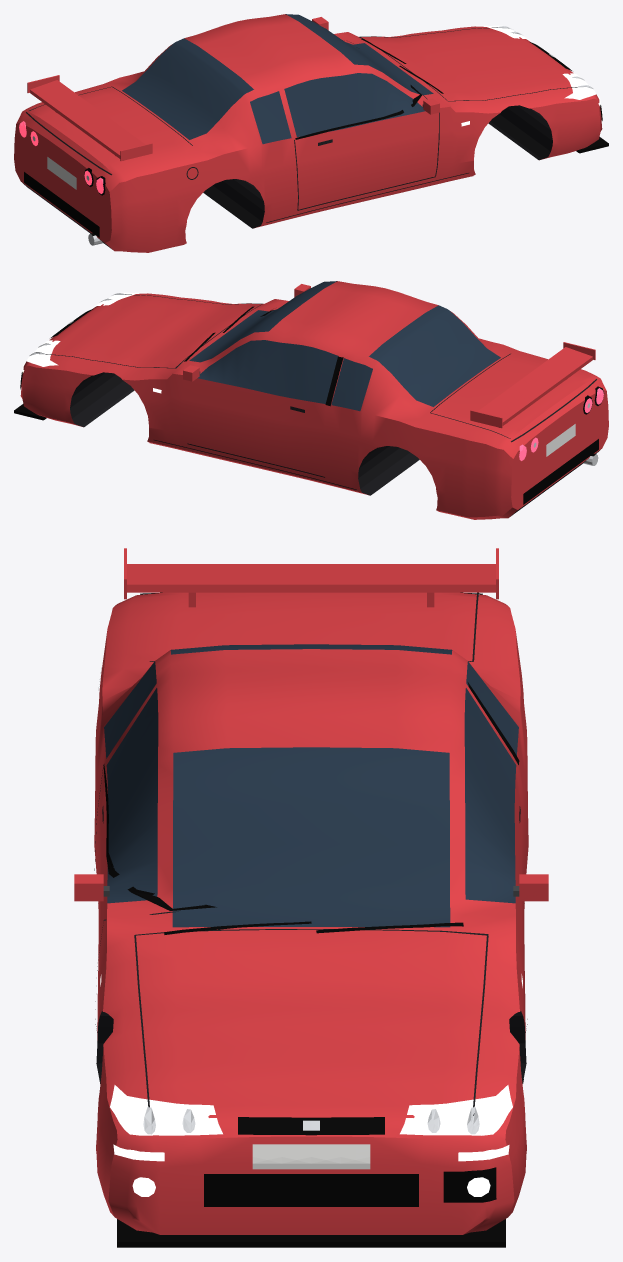
File: nissan-skyline-r33.glb
The picture shows the model from 3 angles, top to bottom: view 1: azimuth 30°, elevation 25°; view 2: azimuth 150°, elevation 25°; view 3: azimuth 270°, elevation 25°; orthographic projection. The views are drawn at different scales.
Parts seen in each view (by area): view 1: nissan-skyline-r33; view 2: nissan-skyline-r33; view 3: nissan-skyline-r33.
Part boxes in pixels (x1=…): nissan-skyline-r33: x1=14, y1=14, x2=608, y2=252; nissan-skyline-r33: x1=14, y1=281, x2=608, y2=519; nissan-skyline-r33: x1=74, y1=548, x2=548, y2=1247.
Bounding box in the file's own units: 4.73 × 1.24 × 1.94.
